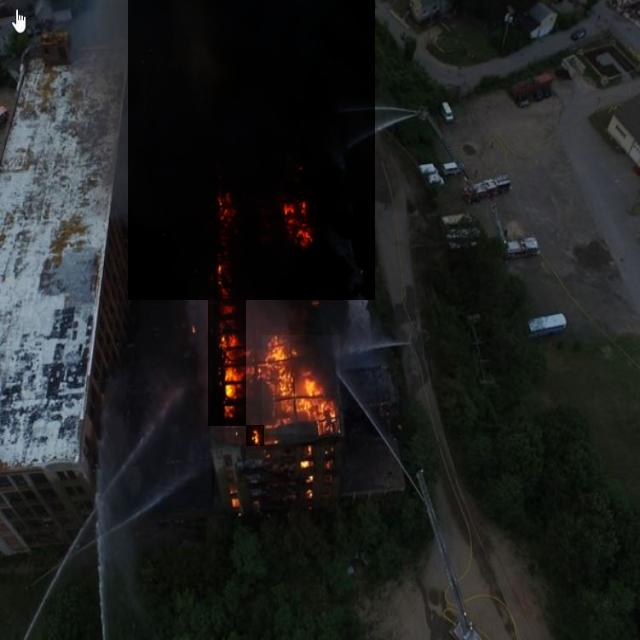Fire: (208, 191, 246, 426), (262, 335, 340, 434), (273, 191, 320, 252), (247, 425, 264, 446)
Smoke: (128, 0, 375, 300)
